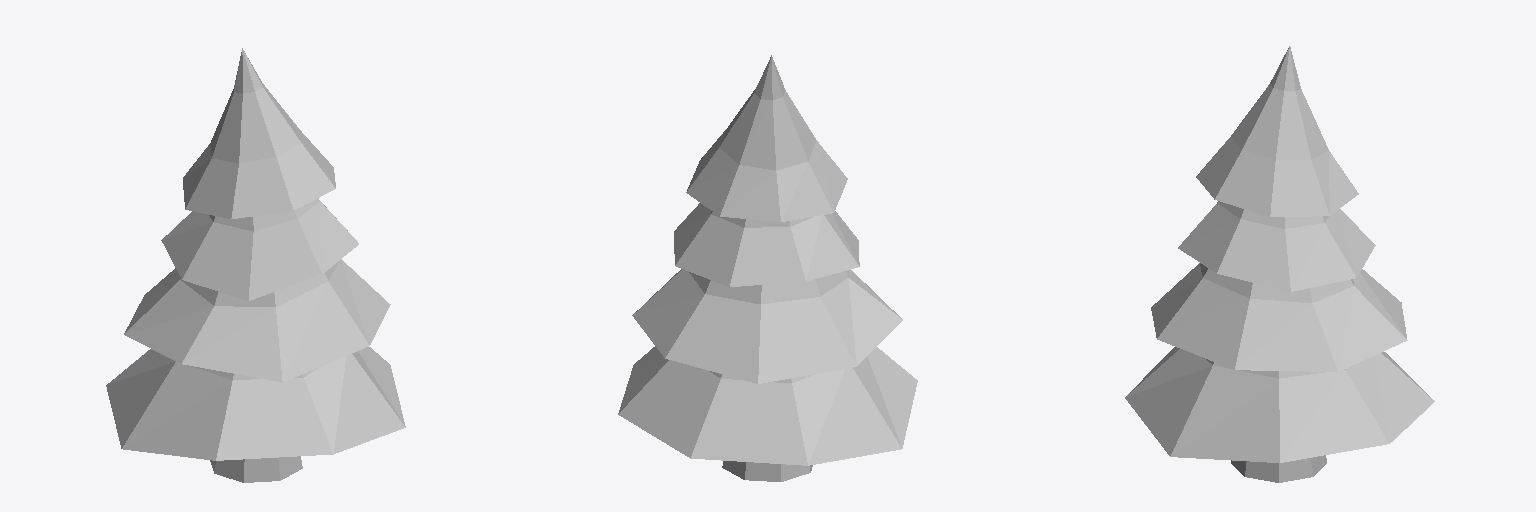
Rendered from FirTree01.obj.
3 renders of one model, left to right at view 1: azimuth 30°, elevation 25°; view 2: azimuth 150°, elevation 25°; view 3: azimuth 270°, elevation 25°, orthographic.
Parts seen in each view (by area): view 1: FirTree; view 2: FirTree; view 3: FirTree.
Boxes of the visible parts, x1=… form: FirTree: x1=106, y1=48, x2=405, y2=482; FirTree: x1=618, y1=55, x2=917, y2=481; FirTree: x1=1125, y1=46, x2=1434, y2=482.
Bounding box in the file's own units: 6.08 × 8.94 × 6.08.